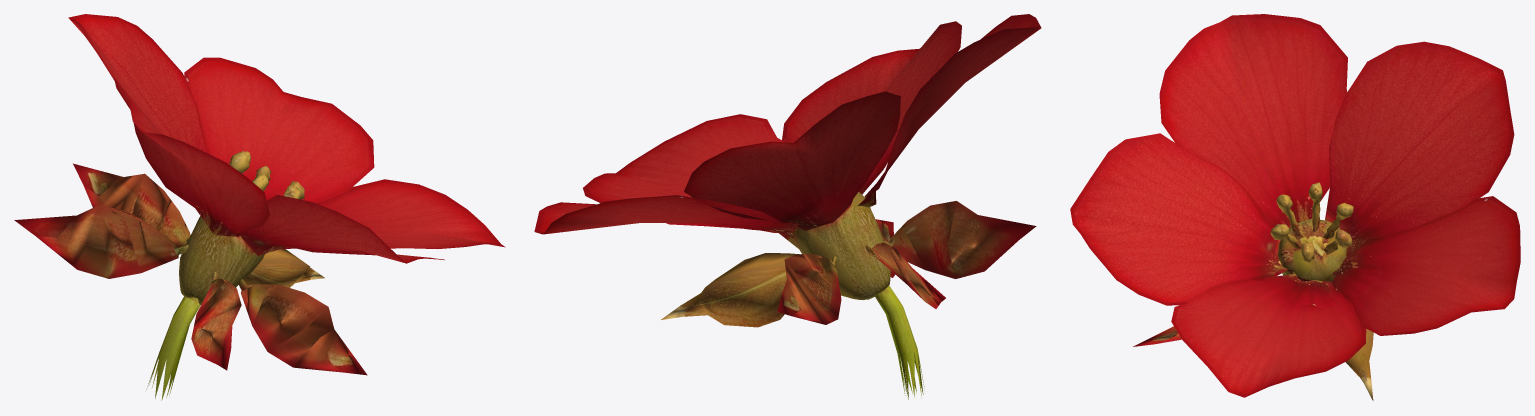
File: red.glb
3 views of the same model, side by side, from view 1: azimuth 30°, elevation 25°; view 2: azimuth 150°, elevation 25°; view 3: azimuth 270°, elevation 25° (orthographic). The views are drawn at different scales.
Visible parts, largest first — view 1: tripo_node_2e5cbb9c-51b6-4573-9d61-d7611779f137; view 2: tripo_node_2e5cbb9c-51b6-4573-9d61-d7611779f137; view 3: tripo_node_2e5cbb9c-51b6-4573-9d61-d7611779f137.
Boxes of the visible parts, <box> form: tripo_node_2e5cbb9c-51b6-4573-9d61-d7611779f137: <box>14,14,505,400</box>; tripo_node_2e5cbb9c-51b6-4573-9d61-d7611779f137: <box>534,14,1041,399</box>; tripo_node_2e5cbb9c-51b6-4573-9d61-d7611779f137: <box>1070,14,1520,400</box>.
Size of the model in its own units: 0.3165 by 0.2546 by 0.3303.
1 material, 1 textured.
